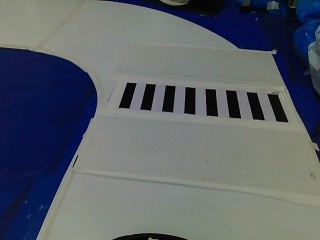crosswalk: (109, 78, 294, 125)
